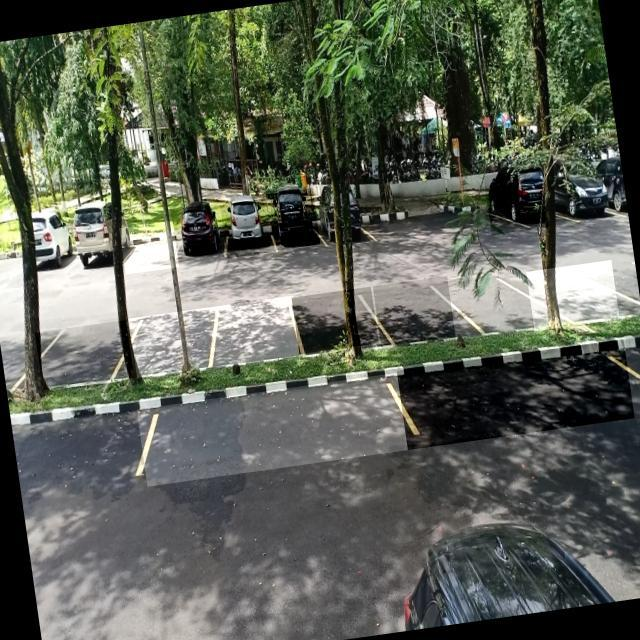empty: (137, 372, 416, 486), (397, 339, 635, 450), (35, 320, 134, 390), (130, 306, 226, 378), (526, 260, 620, 332), (209, 296, 302, 368), (448, 266, 534, 340), (373, 276, 456, 350), (292, 286, 378, 354), (120, 220, 180, 274)
occupied: (484, 168, 548, 235), (170, 203, 228, 262), (220, 198, 277, 258), (266, 188, 320, 250)
